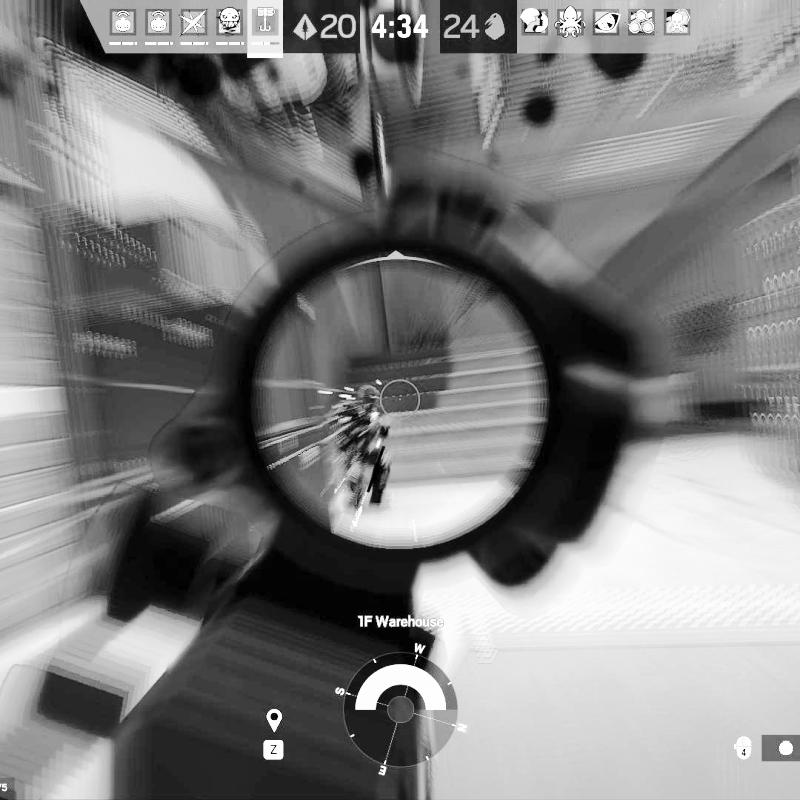Character: (330, 382, 392, 511)
Head: (357, 384, 382, 412)
